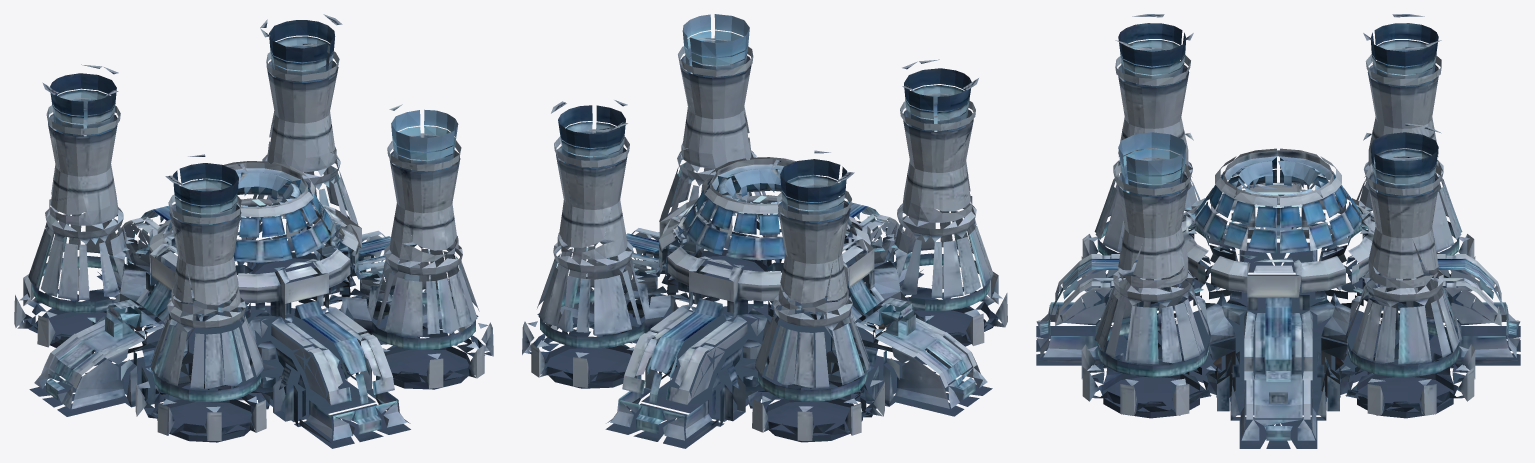
File: power_core_LOD2.glb
3 renders of one model, left to right at view 1: azimuth 30°, elevation 25°; view 2: azimuth 150°, elevation 25°; view 3: azimuth 270°, elevation 25°, orthographic. The views are drawn at different scales.
Visible parts, largest first — view 1: power_core_LOD2; view 2: power_core_LOD2; view 3: power_core_LOD2.
Part boxes in pixels (box(x1,y1,x2,y2)): power_core_LOD2: box(14, 14, 493, 448); power_core_LOD2: box(522, 14, 1007, 448); power_core_LOD2: box(1036, 14, 1520, 448).
Bounding box in the file's own units: 0.9673 × 0.5706 × 0.9595.
1 material, 1 textured.
